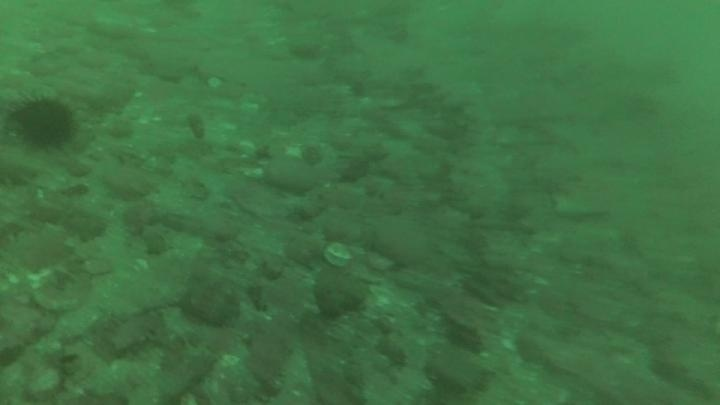echinus: (9, 92, 79, 153)
holothurian: (405, 67, 475, 134)
